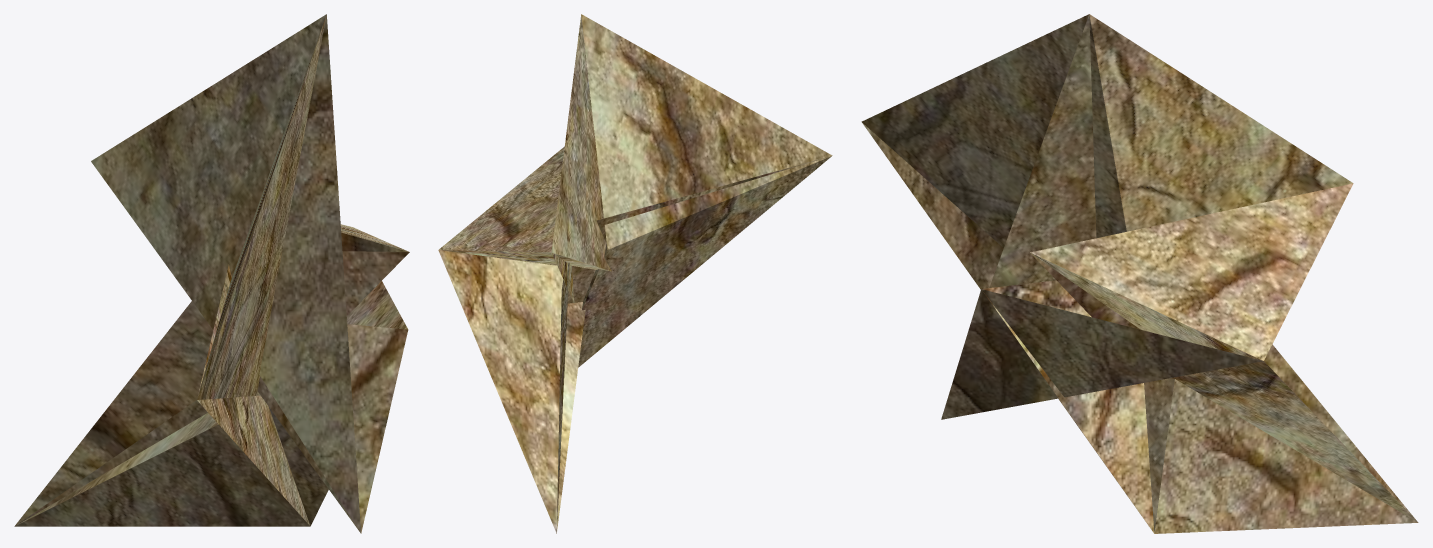
The model's file is rock11.fbx.
3 renders of one model, left to right at view 1: azimuth 30°, elevation 25°; view 2: azimuth 150°, elevation 25°; view 3: azimuth 270°, elevation 25°, orthographic. The views are drawn at different scales.
Visible parts, largest first — view 1: Rock11; view 2: Rock11; view 3: Rock11.
Part boxes in pixels (<box>): Rock11: <box>14,14,409,533</box>; Rock11: <box>438,14,832,533</box>; Rock11: <box>861,14,1418,533</box>.
Bounding box in the file's own units: 7.75 × 12.16 × 10.72.
